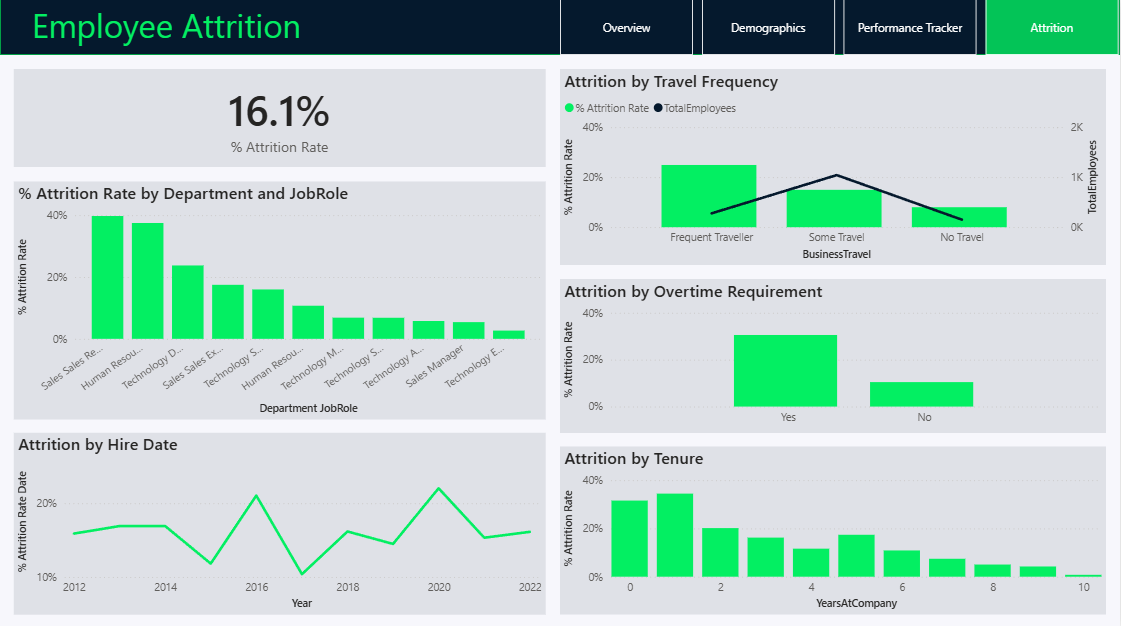

Layout of this report page (visuals, bound fields, positions):
{"tool":"powerbi","page":{"name":"Attrition","canvas":[1280,720],"ordinal":3},"visuals":[{"type":"card","fields":{"Values":["_Measures.% Attrition Rate"]},"box":[16,80,608,112],"z":0},{"type":"columnChart","fields":{"Category":["DimEmployee.Department","DimEmployee.JobRole"],"Y":["_Measures.% Attrition Rate"]},"box":[16,208,608,272],"z":1000},{"type":"lineChart","title":"Attrition by Hire Date","fields":{"Y":["_Measures.% Attrition Rate Date"],"Category":["DimDate.Date.Variation.Date Hierarchy.Year","DimDate.Date.Variation.Date Hierarchy.Quarter","DimDate.Date.Variation.Date Hierarchy.Month","DimDate.Date.Variation.Date Hierarchy.Day"]},"box":[16,496,608,208],"z":2000},{"type":"lineStackedColumnComboChart","title":"Attrition by Travel Frequency","fields":{"Y":["_Measures.% Attrition Rate"],"Category":["DimEmployee.BusinessTravel"],"Y2":["_Measures.TotalEmployees"]},"box":[640,80,624,224],"z":3000},{"type":"columnChart","title":"Attrition by Overtime Requirement","fields":{"Category":["DimEmployee.OverTime"],"Y":["_Measures.% Attrition Rate"]},"box":[640,320,624,176],"z":4000},{"type":"columnChart","title":"Attrition by Tenure","fields":{"Category":["DimEmployee.YearsAtCompany"],"Y":["_Measures.% Attrition Rate"]},"box":[640,512,624,192],"z":5000},{"type":"shape","box":[0,0,1280,64],"z":6000},{"type":"textbox","box":[32,0,624,64],"z":7000},{"type":"pageNavigator","box":[640,0,640,64],"z":8000}]}

Visuals, with their boxes in screenshot pixels (x1, y1, x2, y2), scaled from the page's 1280x720 canvas onto the 1121x626 screenshot:
card - _Measures.% Attrition Rate: l=14, t=70, r=546, b=167
columnChart - DimEmployee.Department x DimEmployee.JobRole: l=14, t=181, r=546, b=417
"Attrition by Hire Date" lineChart: l=14, t=431, r=546, b=612
"Attrition by Travel Frequency" lineStackedColumnComboChart: l=560, t=70, r=1107, b=264
"Attrition by Overtime Requirement" columnChart: l=560, t=278, r=1107, b=431
"Attrition by Tenure" columnChart: l=560, t=445, r=1107, b=612
shape: l=0, t=0, r=1120, b=56
textbox: l=28, t=0, r=575, b=56
pageNavigator: l=560, t=0, r=1120, b=56
